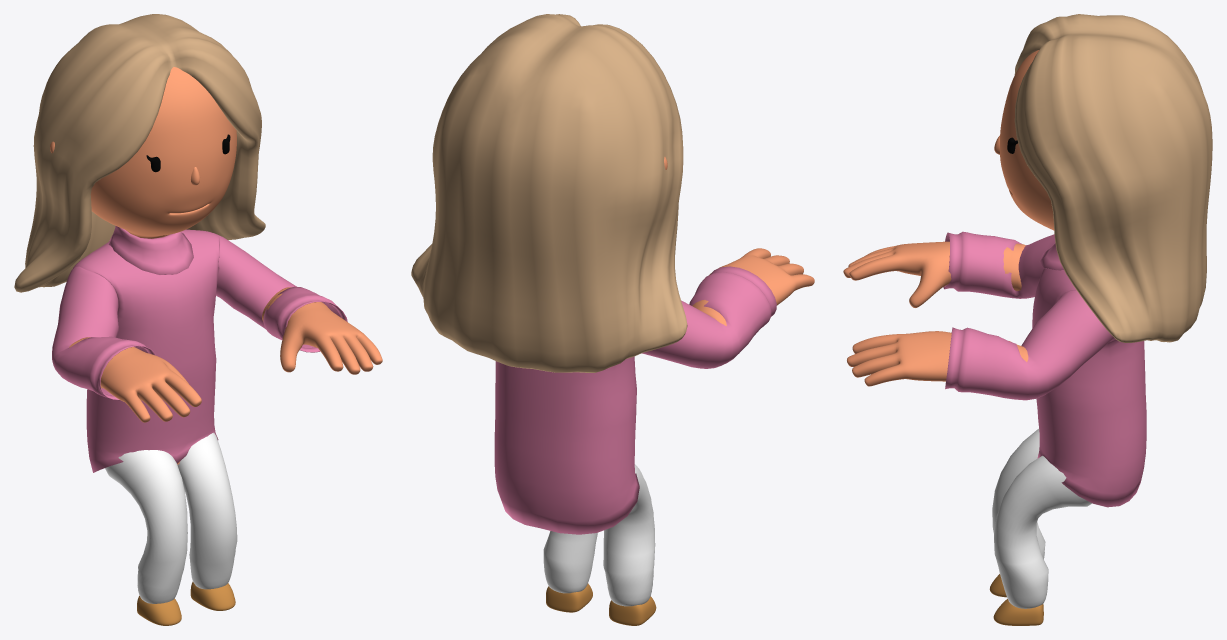
The model's file is dev_back.gltf.
The picture shows the model from 3 angles, left to right: view 1: azimuth 30°, elevation 25°; view 2: azimuth 150°, elevation 25°; view 3: azimuth 270°, elevation 25°; orthographic projection. The views are drawn at different scales.
Visible parts, largest first — view 1: Hair_11, female_turtelneck, head, body, Cube.020, Cube.019, Cube.021, Cube.022; view 2: Hair_11, female_turtelneck, Cube.020, Cube.019, body, Cube.021, Cube.022; view 3: Hair_11, female_turtelneck, body, Cube.019, head, Cube.020, Cube.022.
Boxes of the visible parts, x1,y1,x2,y2 form: Hair_11: (14,14,265,292); female_turtelneck: (52,226,347,472); head: (50,67,236,238); body: (69,287,382,464); Cube.020: (105,450,187,603); Cube.019: (177,432,237,589); Cube.021: (137,596,181,625); Cube.022: (190,581,235,610); Hair_11: (411,14,687,372); female_turtelneck: (494,266,776,534); Cube.020: (603,464,655,606); Cube.019: (543,531,597,593); body: (692,248,814,325); Cube.021: (609,596,656,625); Cube.022: (546,583,592,612); Hair_11: (1014,14,1212,342); female_turtelneck: (943,231,1146,507); body: (843,241,1028,386); Cube.019: (994,455,1091,608); head: (1000,50,1054,230); Cube.020: (992,429,1045,559); Cube.022: (993,599,1043,625).
Size of the model in its own units: 7.19 by 14.74 by 8.52.
